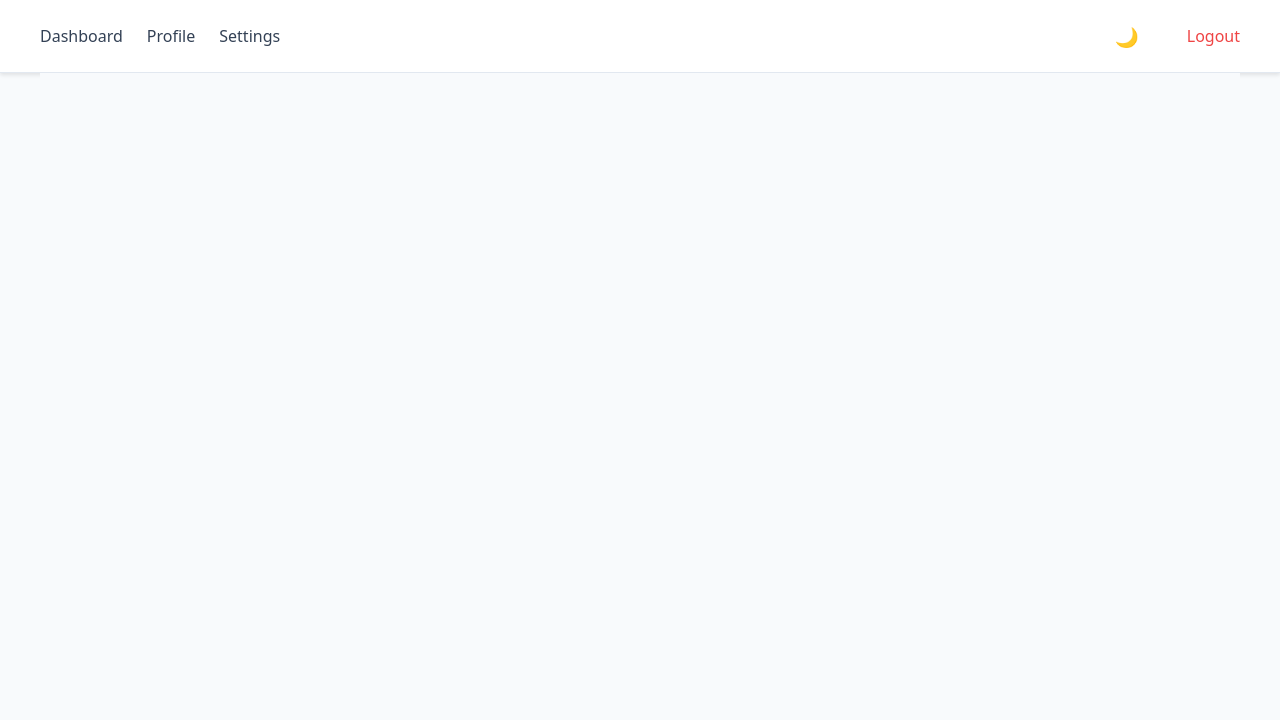
it: AppLayout › переключает тему кнопкой dark mode
Click the button "🌙": (1127, 36) [1107,16,1147,56]
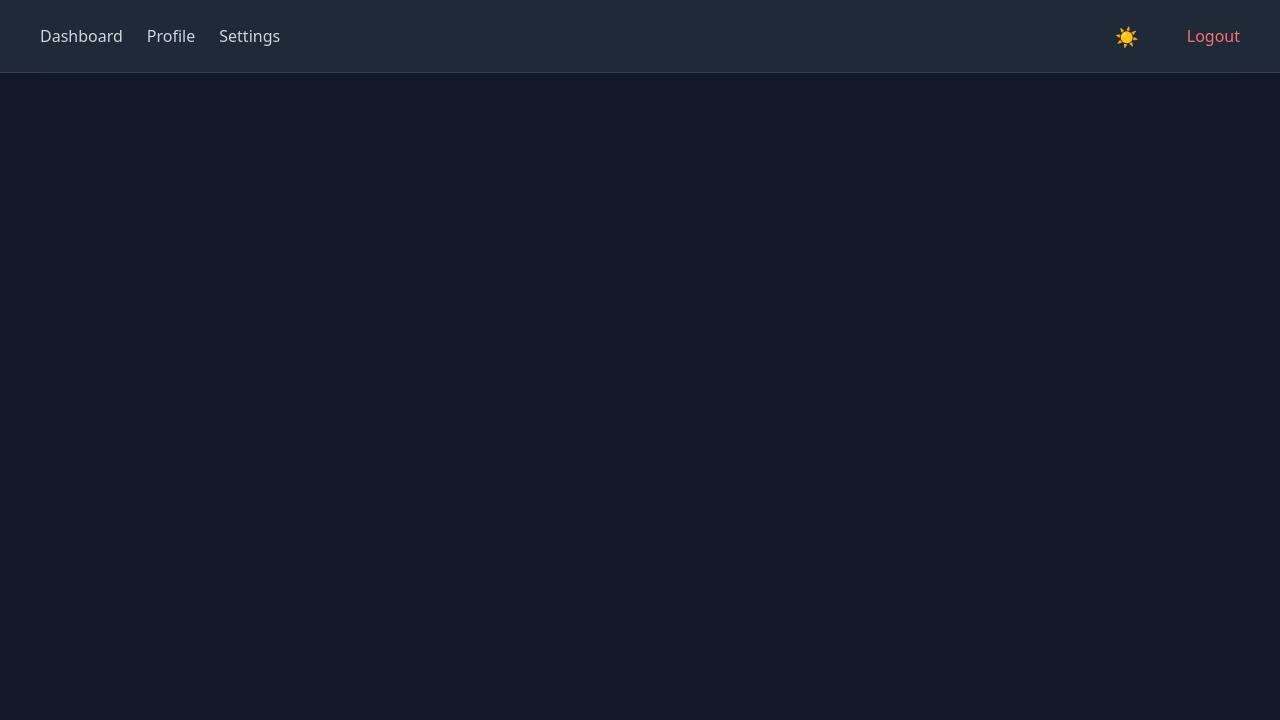
Expected: the button named "Switch to light mode" is shown, [1107,16,1147,56]
